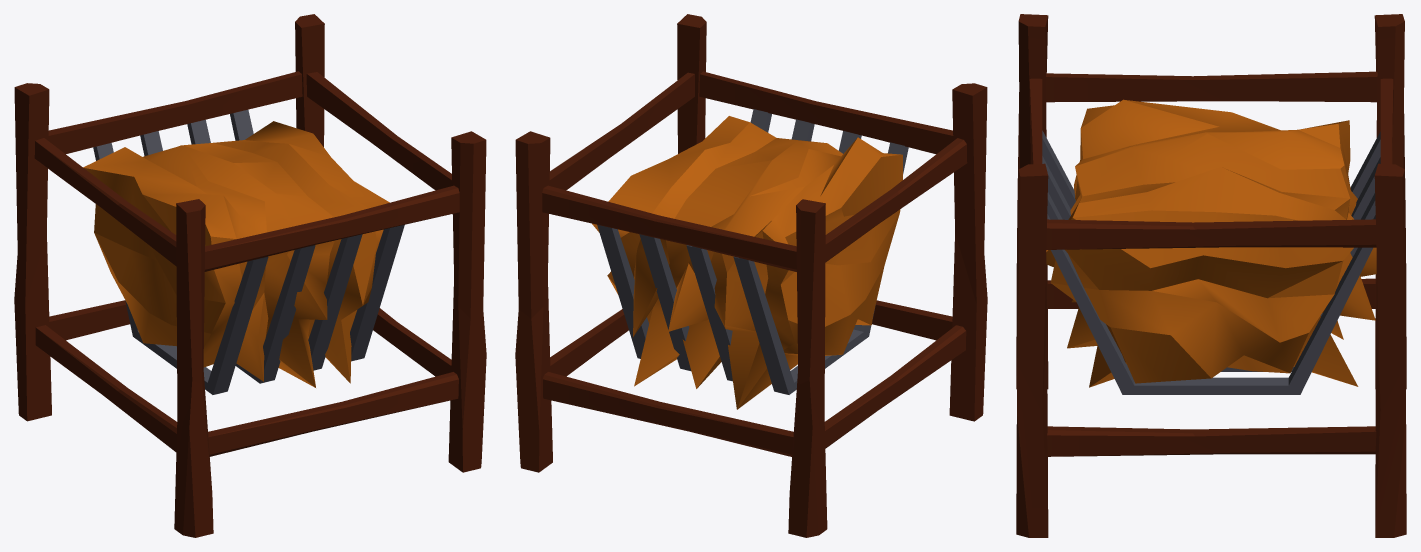
The model's file is Feeder_2_w_Hay.fbx.
3 views of the same model, side by side, from view 1: azimuth 30°, elevation 25°; view 2: azimuth 150°, elevation 25°; view 3: azimuth 270°, elevation 25° (orthographic). The views are drawn at different scales.
Visible parts, largest first — view 1: Feeder_2_w_Hay; view 2: Feeder_2_w_Hay; view 3: Feeder_2_w_Hay.
Part boxes in pixels (left/top/right/bottom): Feeder_2_w_Hay: left=14, top=14, right=486, bottom=537; Feeder_2_w_Hay: left=515, top=14, right=987, bottom=537; Feeder_2_w_Hay: left=1016, top=14, right=1406, bottom=537.
Bounding box in the file's own units: 37.58 × 38.94 × 38.09.
